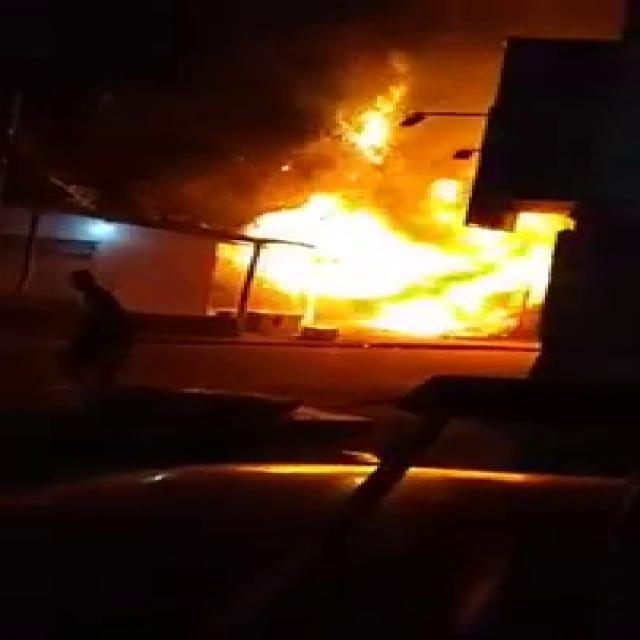Fire: (253, 206, 553, 344)
